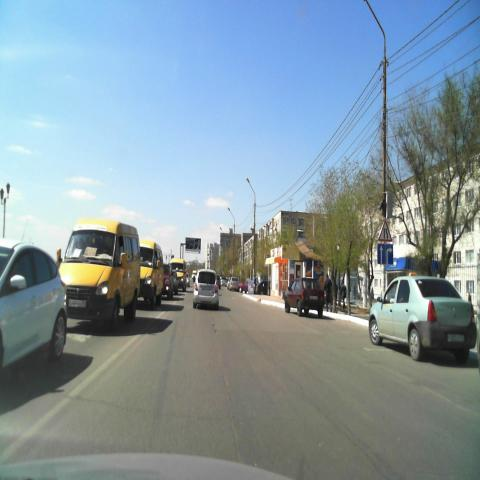1_20_2: (378, 220, 392, 242)
